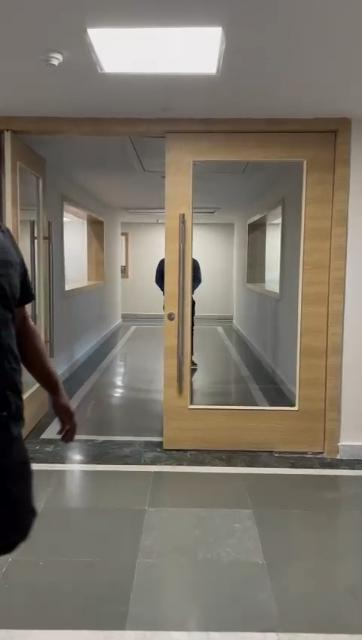door: (166, 127, 342, 459)
floor: (1, 323, 359, 640)
moving-obj: (0, 216, 86, 580)
